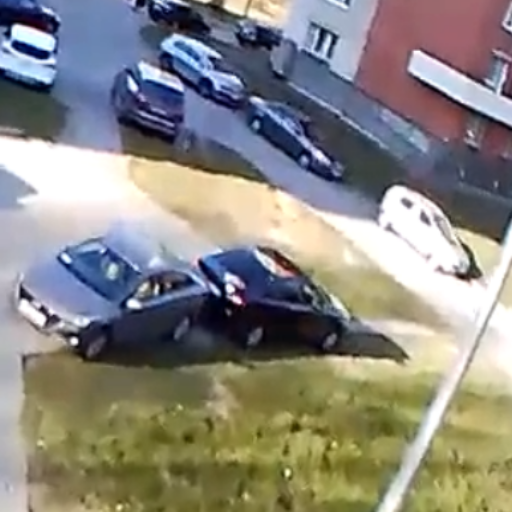Car: (14, 223, 206, 342), (196, 241, 341, 342), (377, 178, 473, 279), (248, 93, 340, 180), (156, 29, 248, 105), (107, 59, 184, 140), (1, 24, 60, 93), (146, 0, 218, 34), (3, 0, 62, 33), (232, 14, 281, 48)
